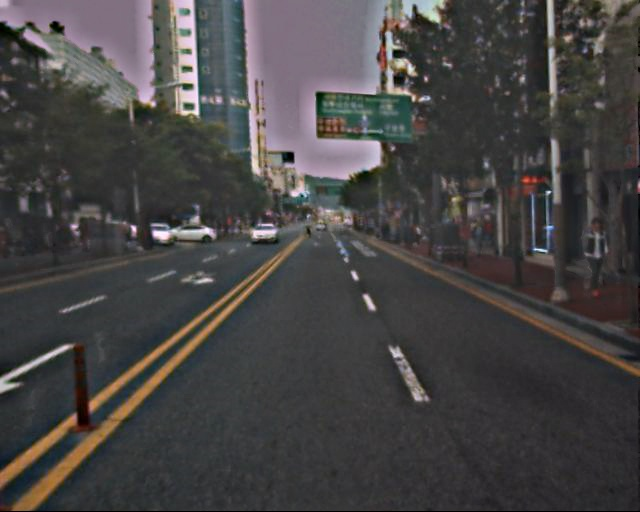person: (575, 217, 611, 297), (469, 216, 489, 260)
